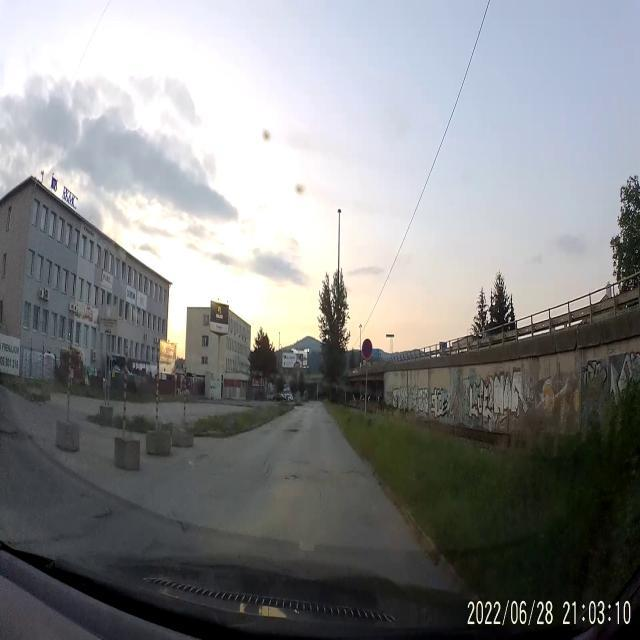Pothole: (285, 472, 303, 486), (284, 423, 298, 438)
